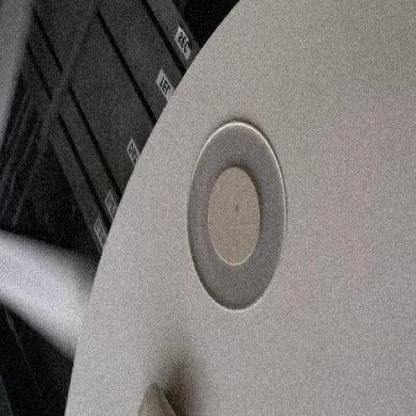light_off: (177, 91, 301, 326)
